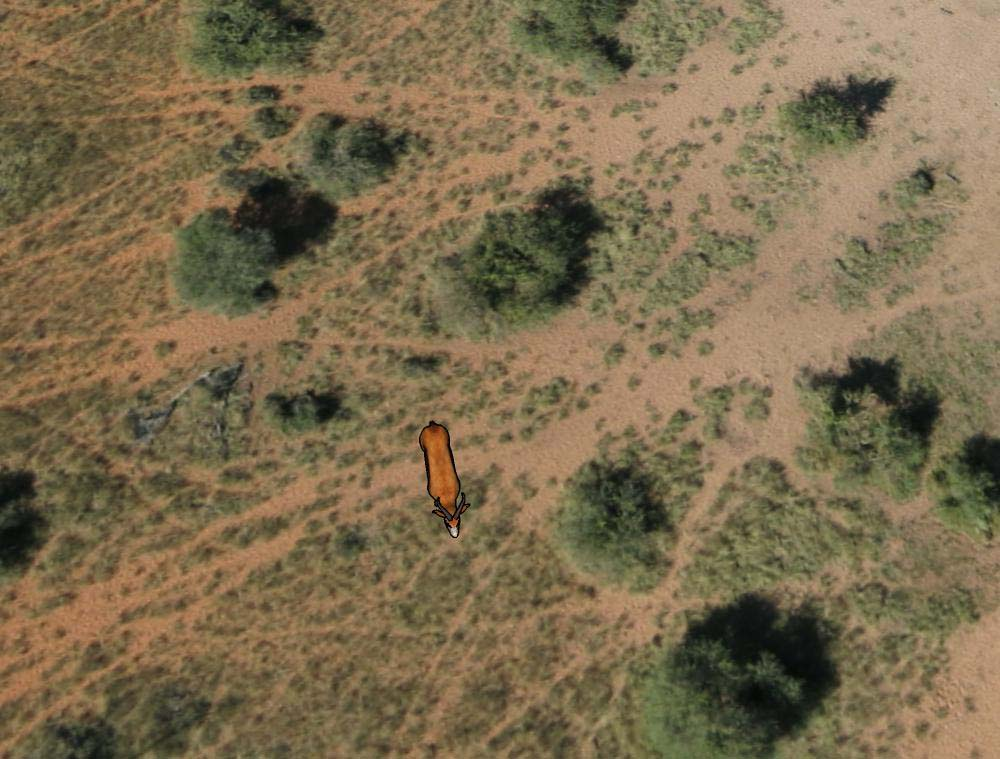springbok: (409, 418, 470, 542)
